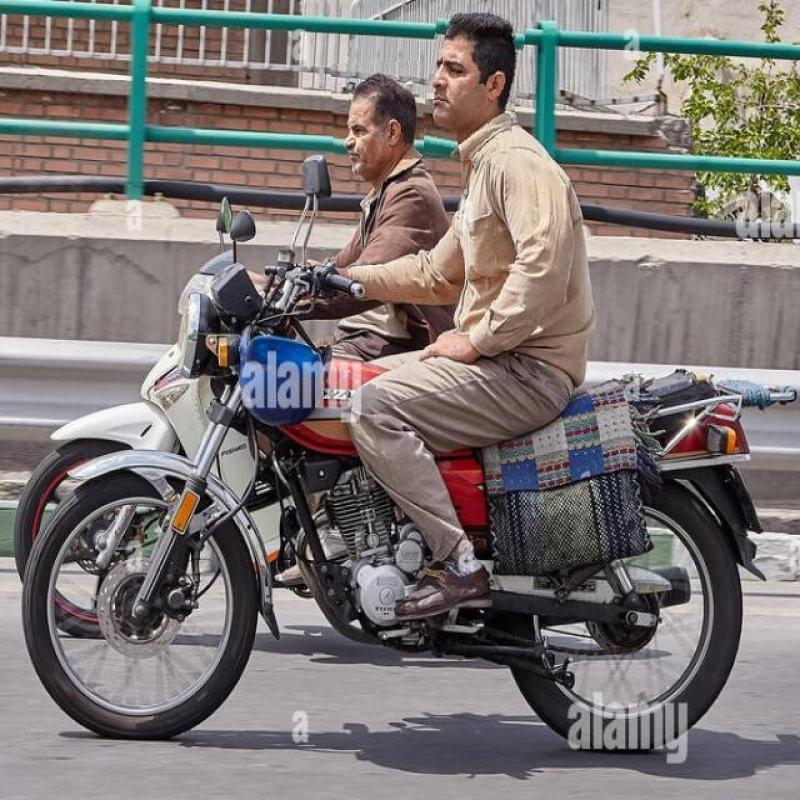nohelmet: (423, 12, 523, 163), (331, 62, 424, 184)
